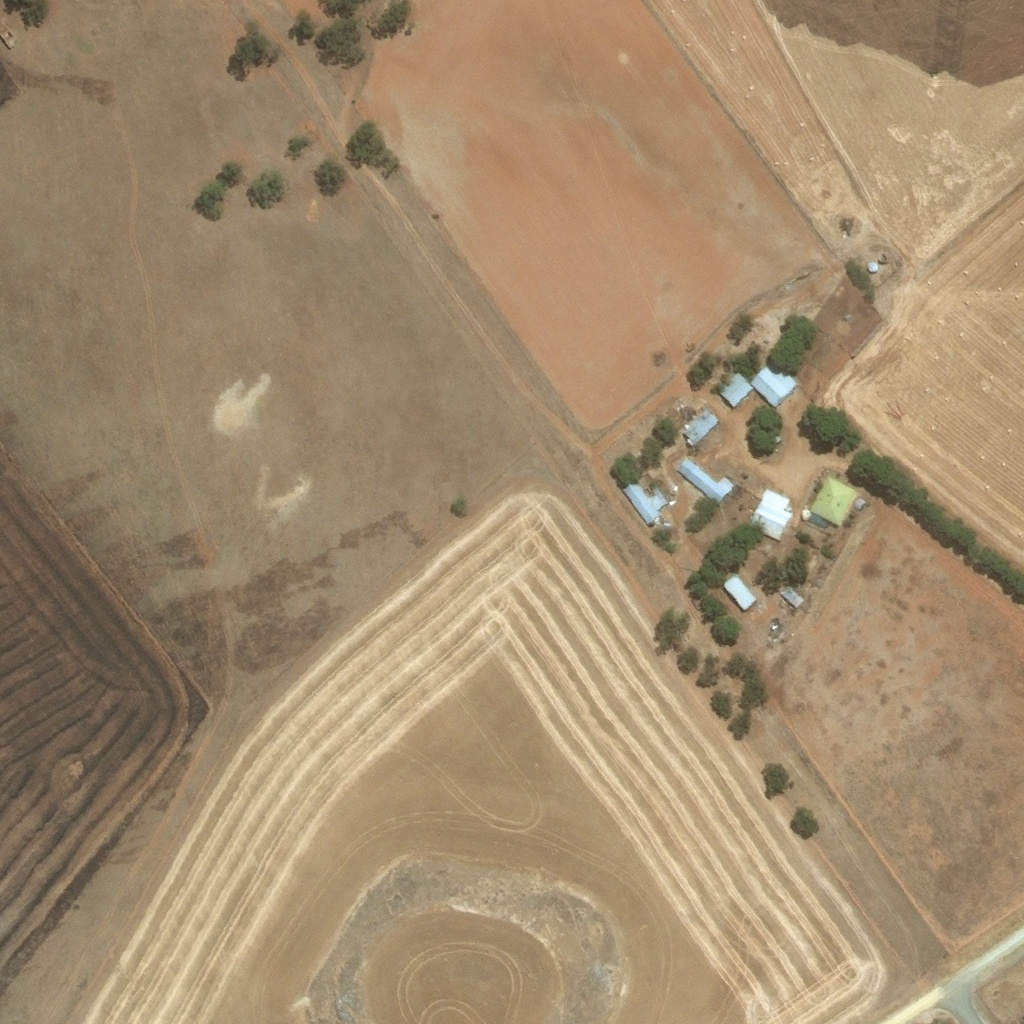0 no-damage: (673, 458, 733, 506), (746, 491, 790, 544), (618, 479, 665, 528), (808, 478, 855, 527), (749, 362, 796, 409), (722, 576, 755, 612), (716, 375, 751, 408), (685, 408, 717, 440), (804, 513, 835, 535), (776, 589, 801, 610), (849, 499, 863, 514), (797, 509, 808, 523)
4 un-classified: (782, 286, 791, 295)
